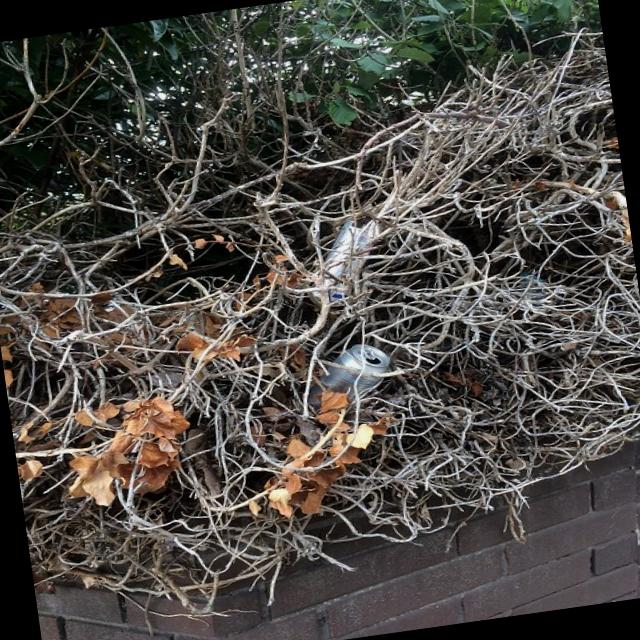Recycle: (268, 336, 398, 429)
